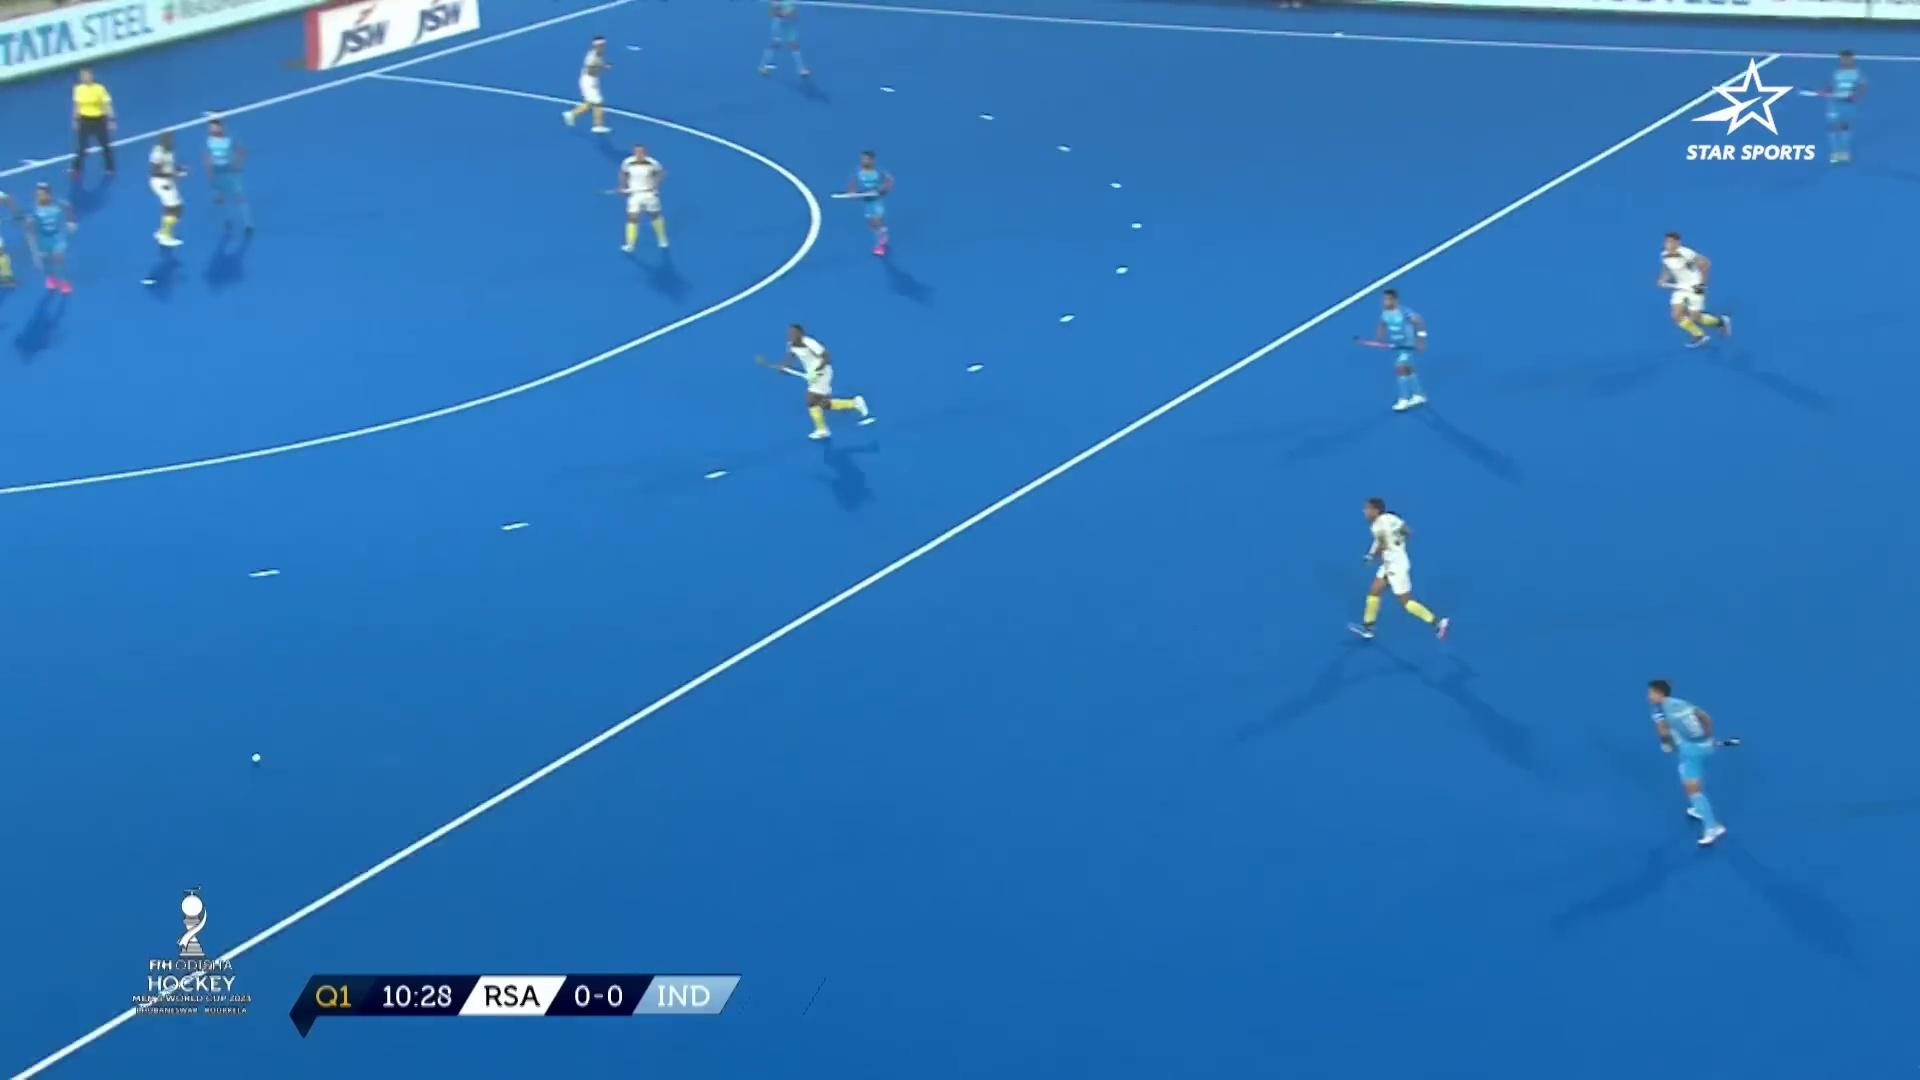ball: (245, 746, 284, 777)
